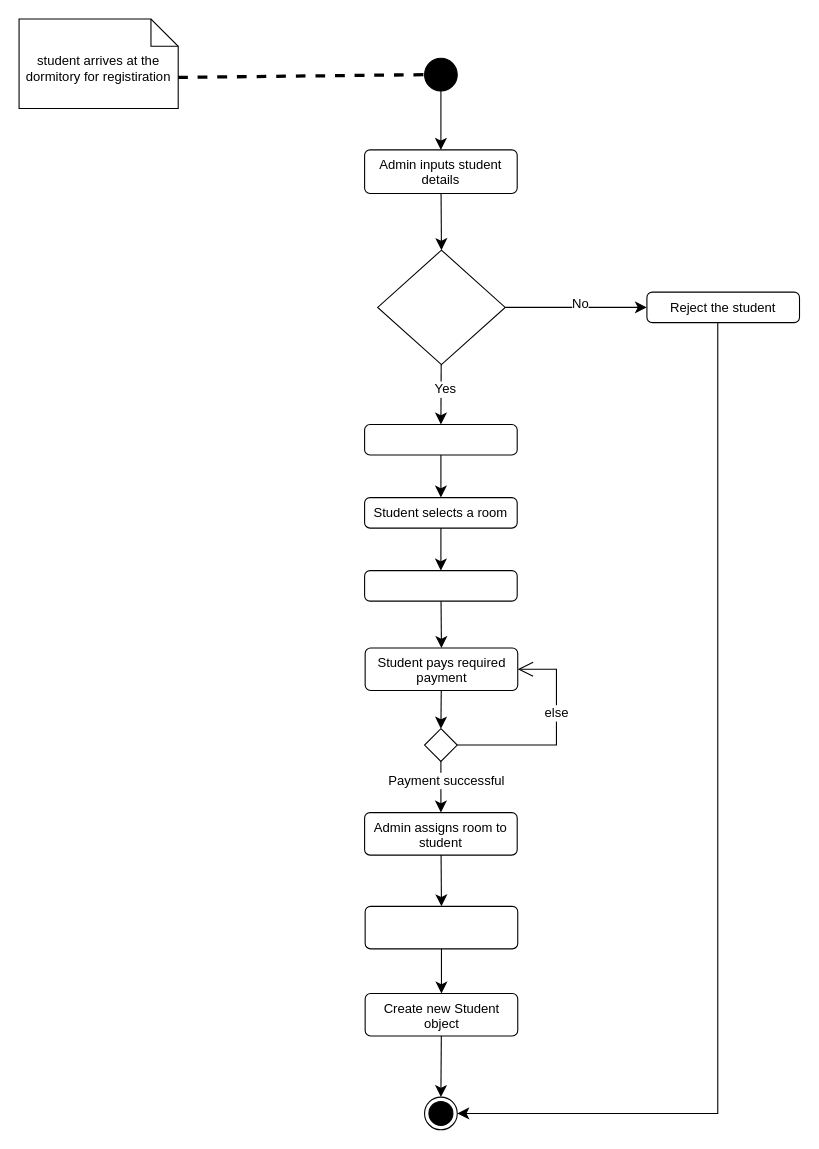
Some shapes in this 819 by 1149 pixel diagram are drawn without their labels. Each missing label, with the box of its shape:
Admin issues the room key: (364, 905, 518, 949)
Calculate total fee: (364, 570, 517, 601)
Check for available room: (364, 423, 517, 455)
University enrollment valid?: (377, 249, 505, 365)
